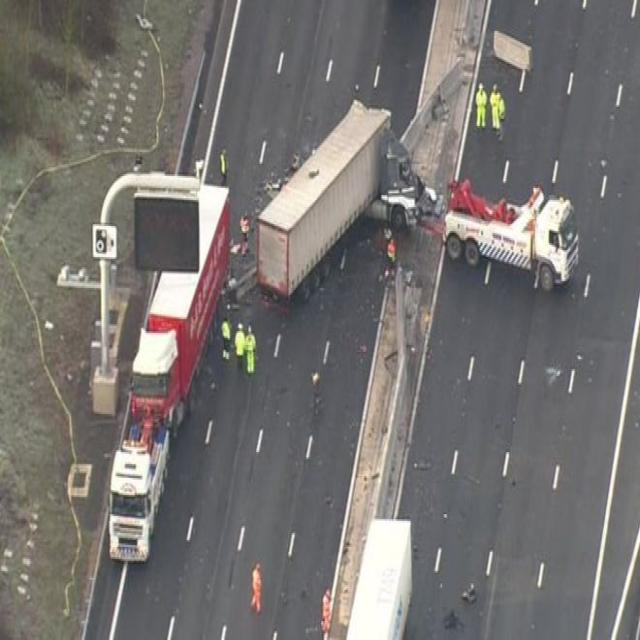traffic_incident: (254, 84, 431, 310)
